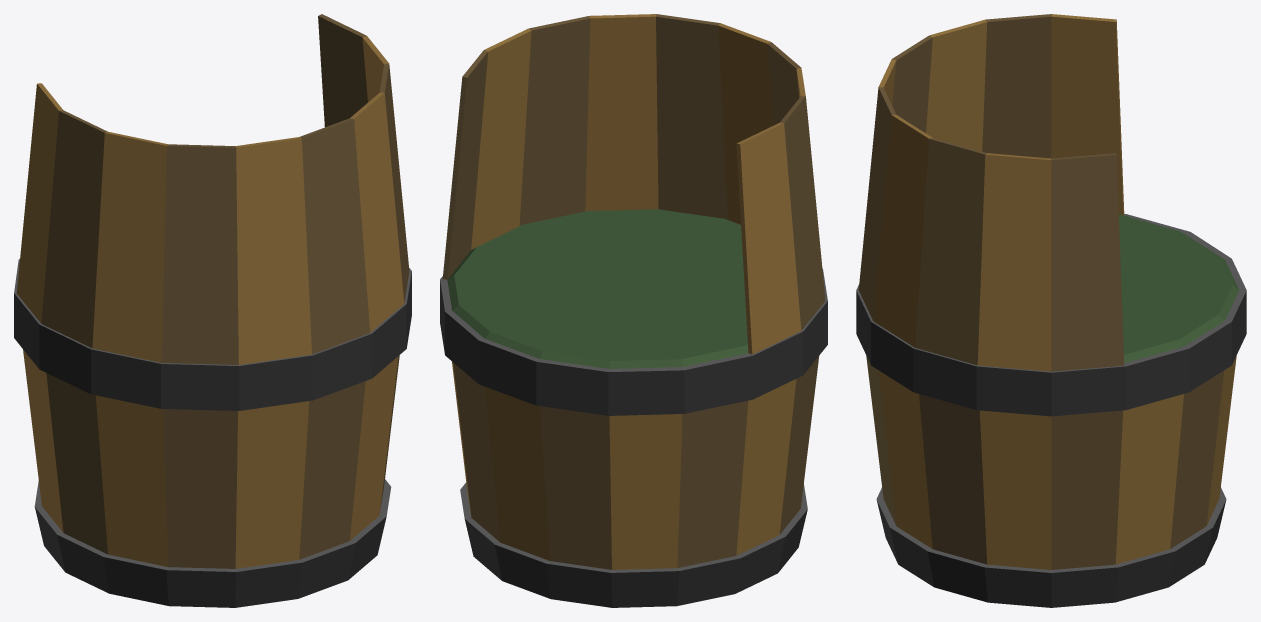
File: sm_chair_2.fbx
The picture shows the model from 3 angles, left to right: view 1: azimuth 30°, elevation 25°; view 2: azimuth 150°, elevation 25°; view 3: azimuth 270°, elevation 25°; orthographic projection. The views are drawn at different scales.
Parts seen in each view (by area): view 1: sm_chair_2; view 2: sm_chair_2; view 3: sm_chair_2.
Part boxes in pixels (left/top/right/bottom): sm_chair_2: left=14, top=14, right=411, bottom=607; sm_chair_2: left=440, top=14, right=827, bottom=607; sm_chair_2: left=856, top=14, right=1246, bottom=607.
Size of the model in its own units: 36.78 by 46.85 by 36.78.
